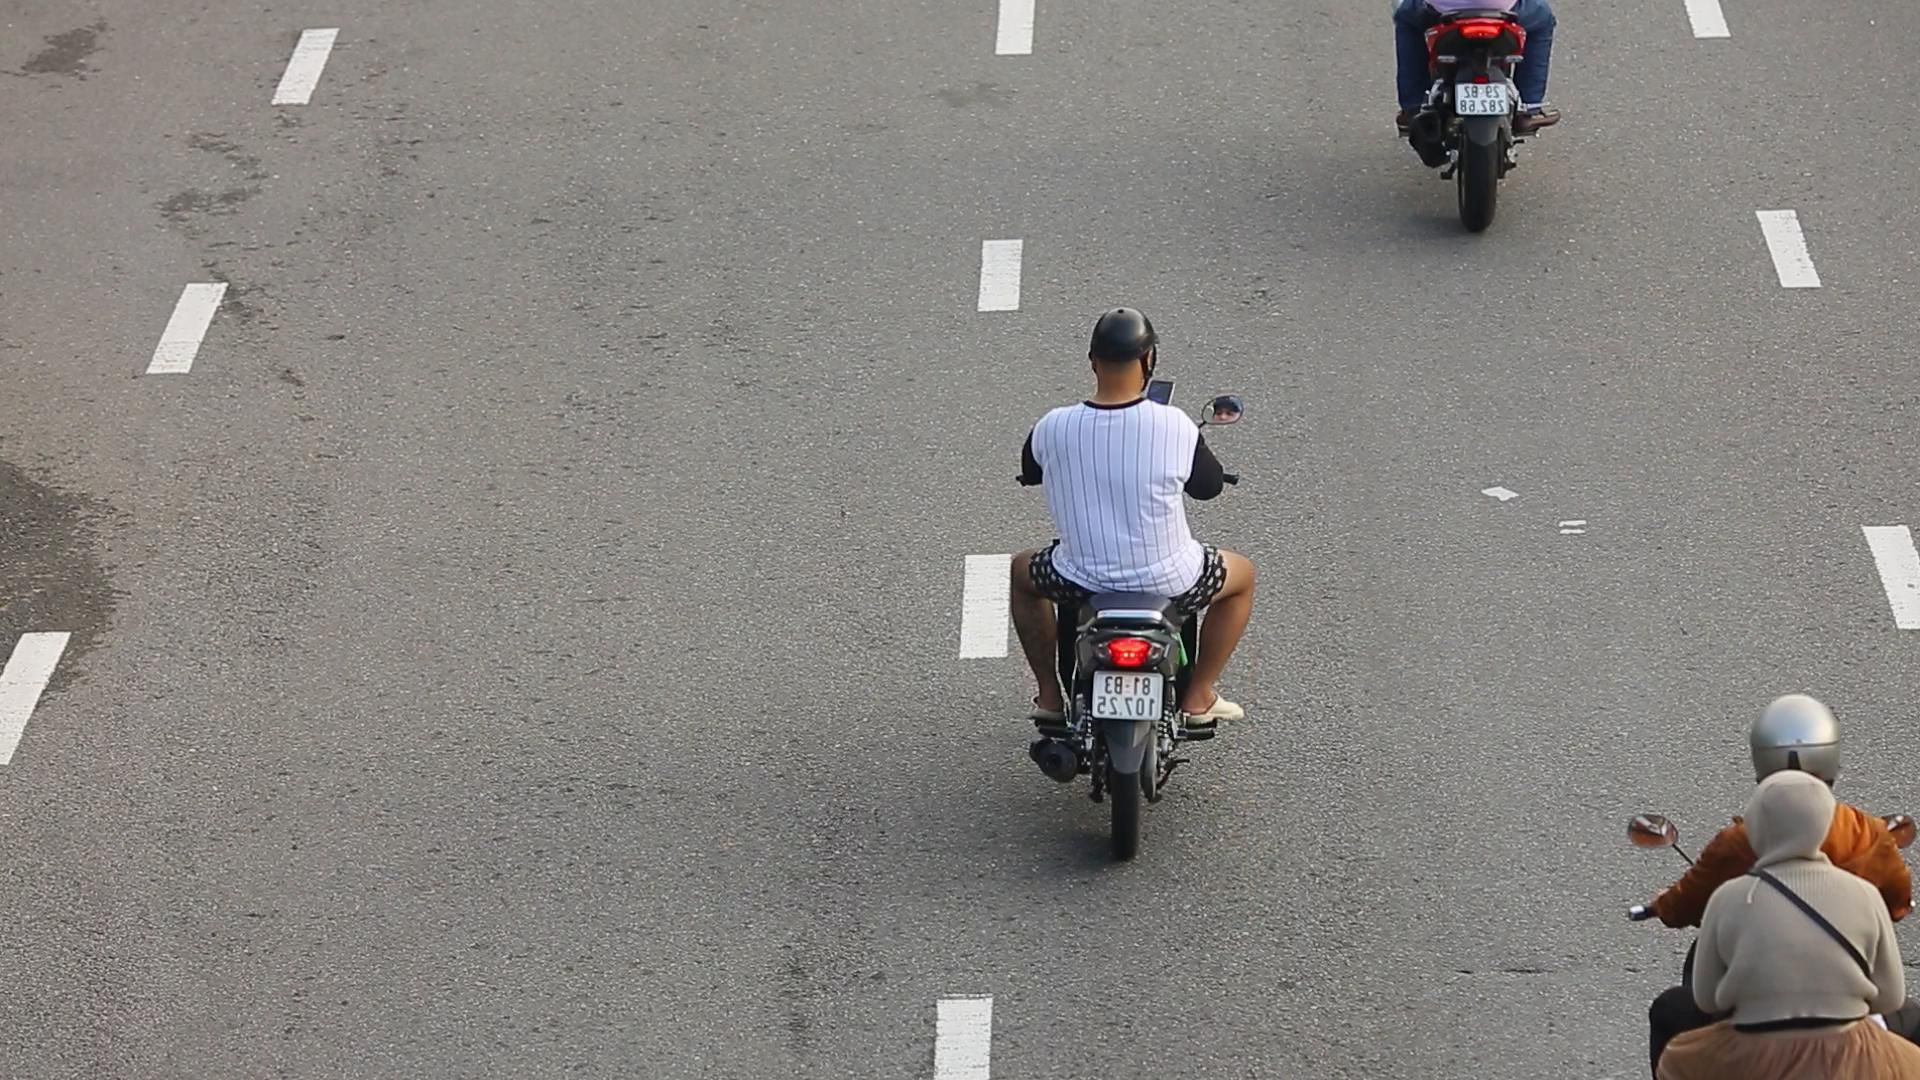motobike: (992, 305, 1270, 868)
